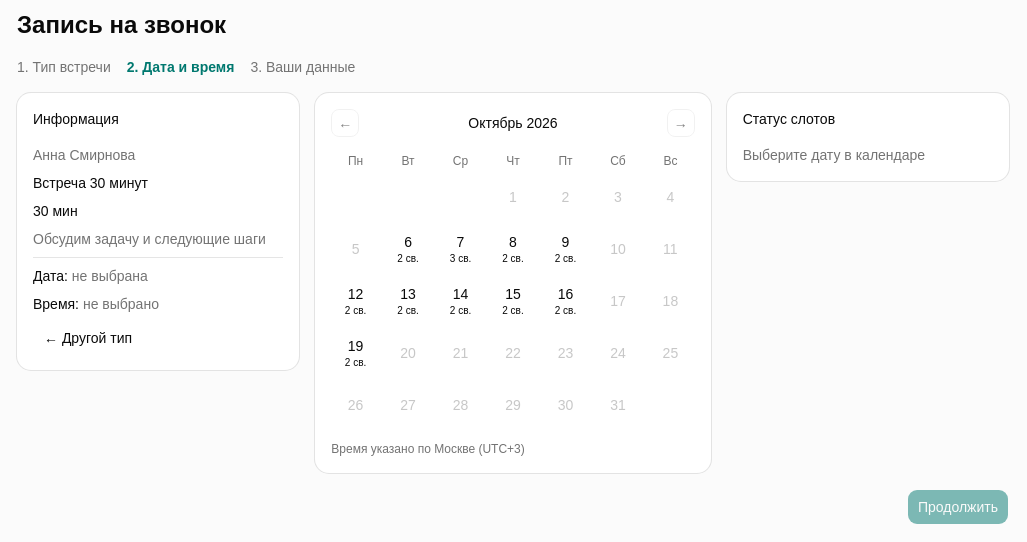
подтверждение и создание Booking › ошибки под полями видны до отправки: пустые поля
Click the button "7 3 св.": (461, 249) [436,225,485,273]
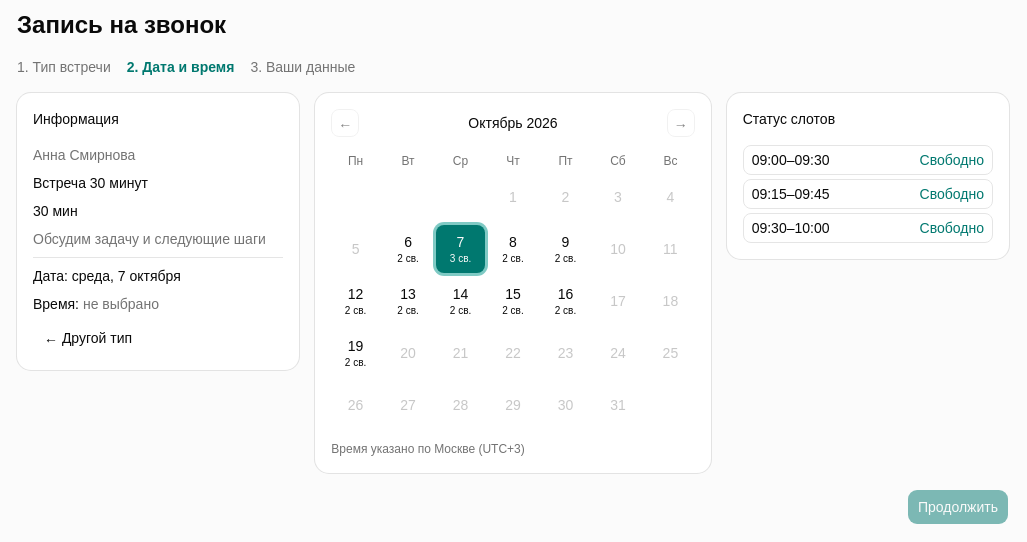
Click the button "09:30–10:00 Свободно": (868, 228) [743,213,993,243]
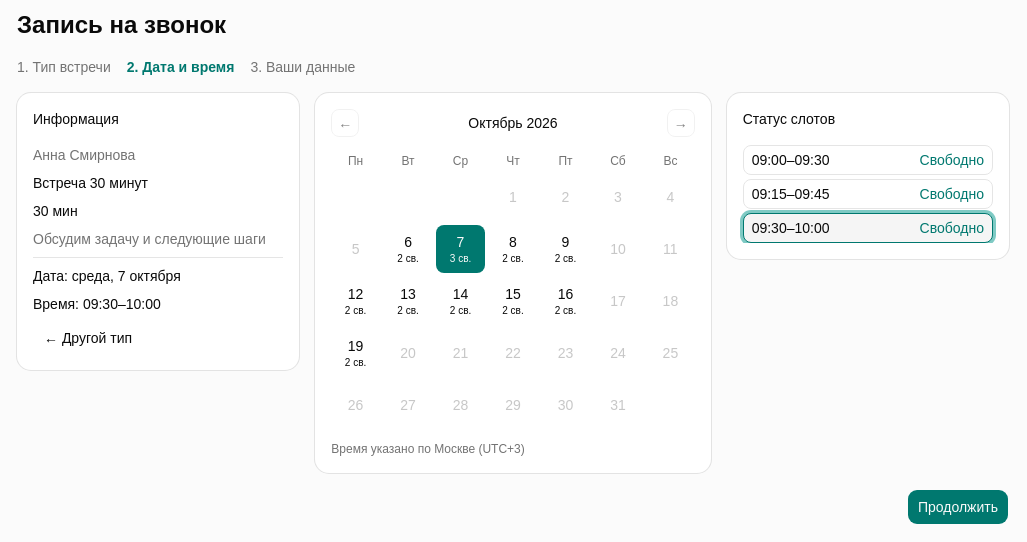
Click the button "Продолжить": (958, 507) [907,489,1009,525]
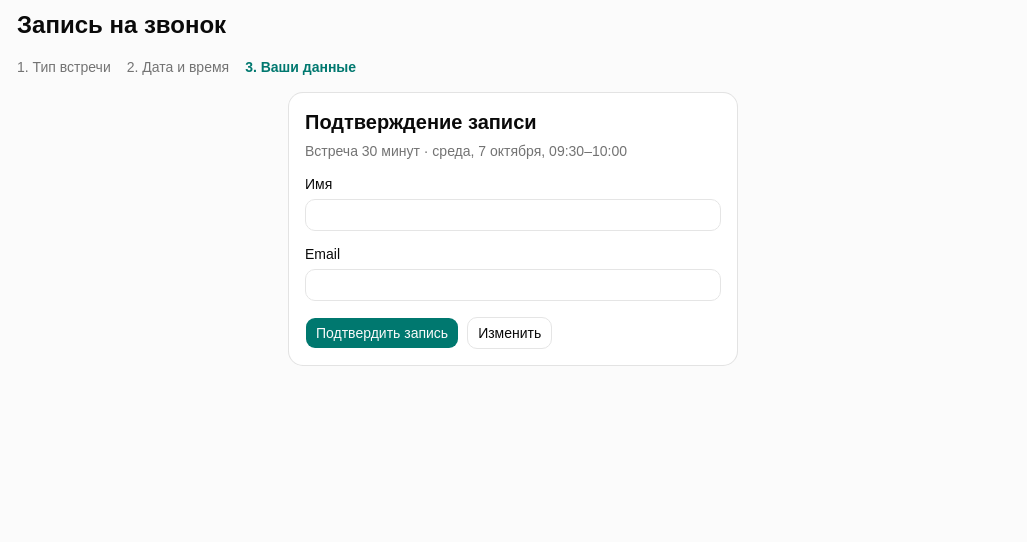
Click the field labelled "Имя": (513, 214) [305,198,721,230]
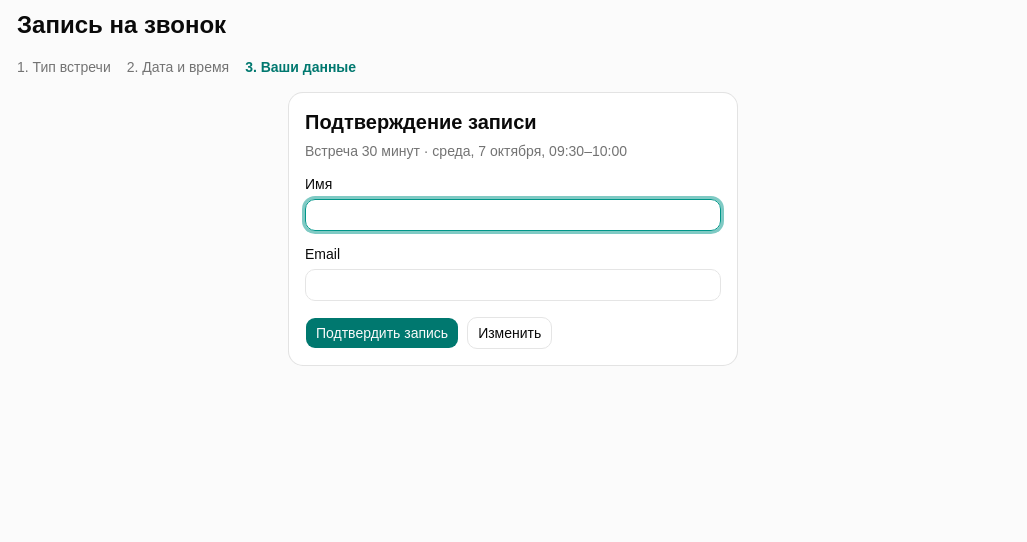
Click the field labelled "Email": (513, 284) [305,268,721,300]
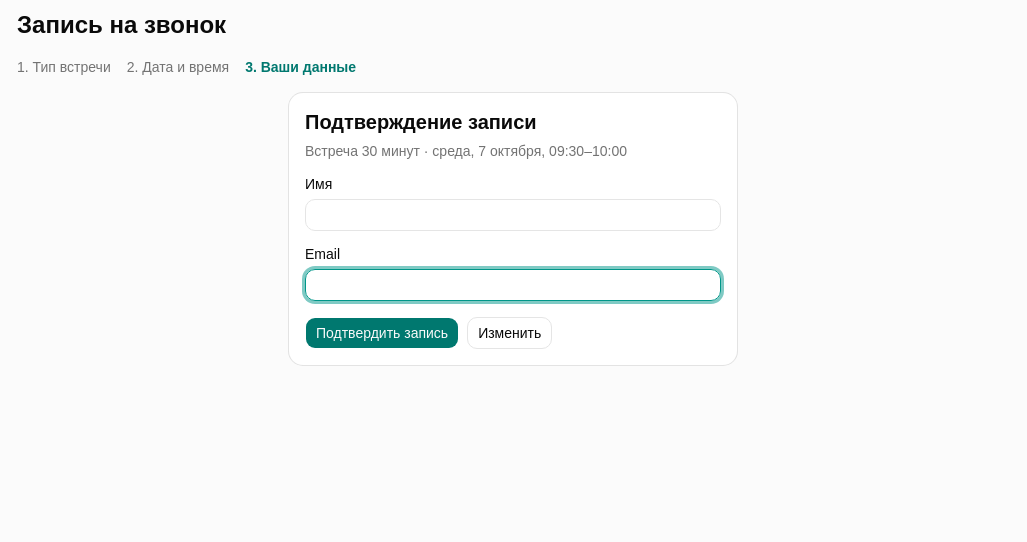
Click the button "Подтвердить запись": (382, 332) [305,316,459,348]
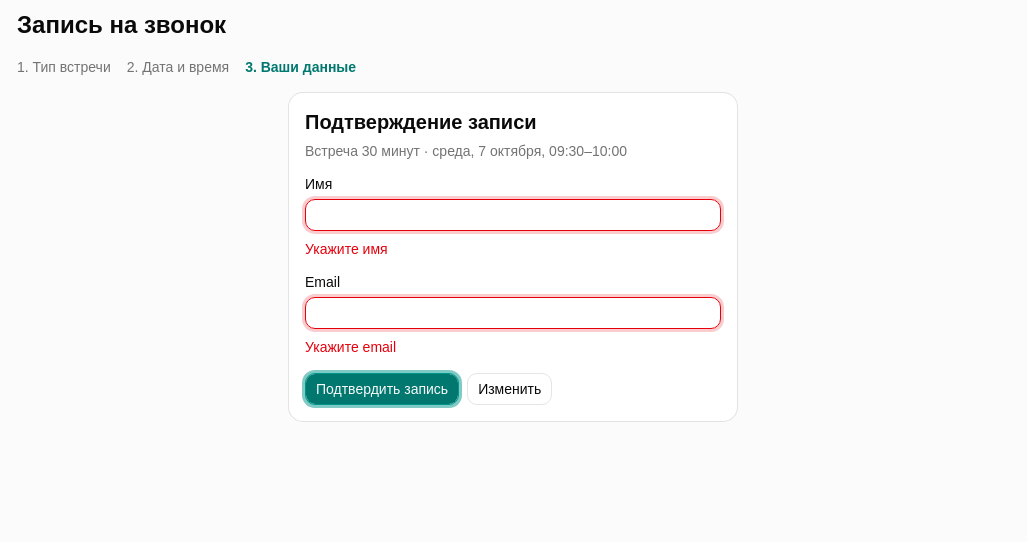
Now the text "Укажите имя" is shown, box [305,240,388,256]
Now the text "Укажите email" is shown, box [305,338,396,354]
